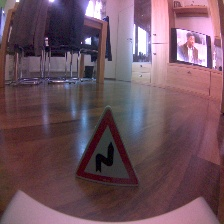vorsicht: (71, 103, 143, 190)
